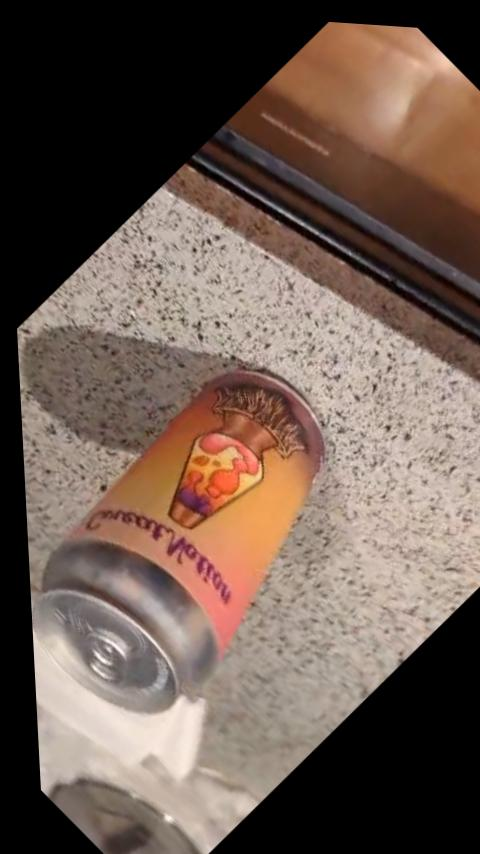metal: (32, 369, 323, 714)
